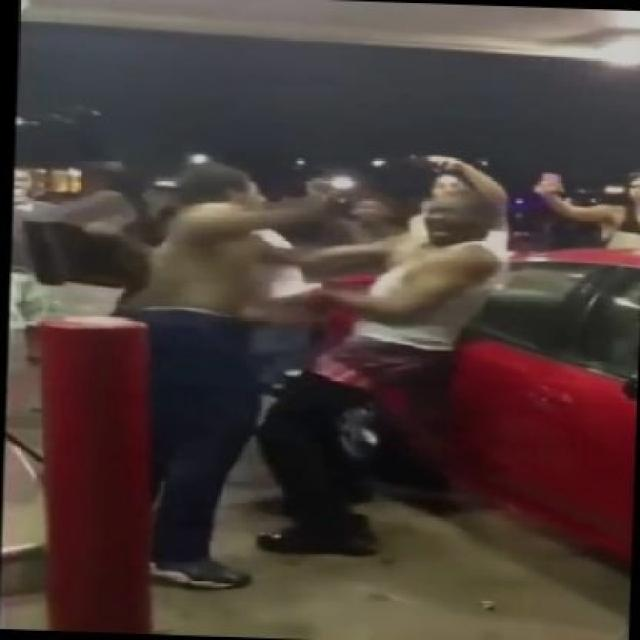fight: (110, 148, 513, 597)
